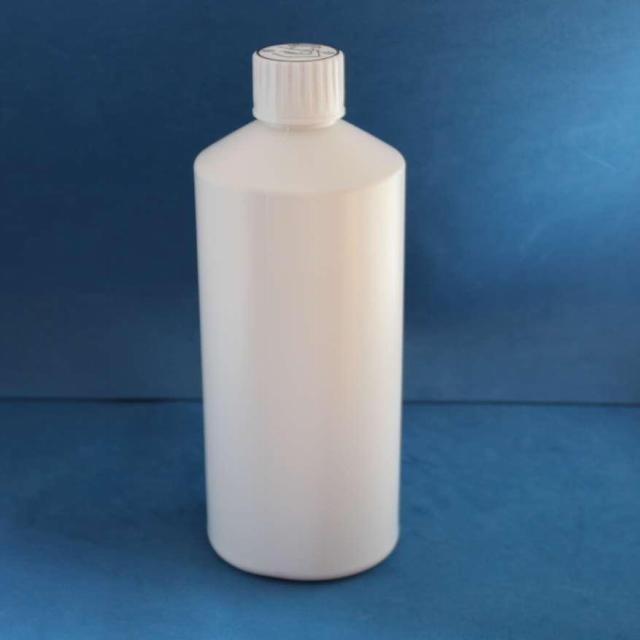plastic_bottle: (189, 27, 428, 589)
